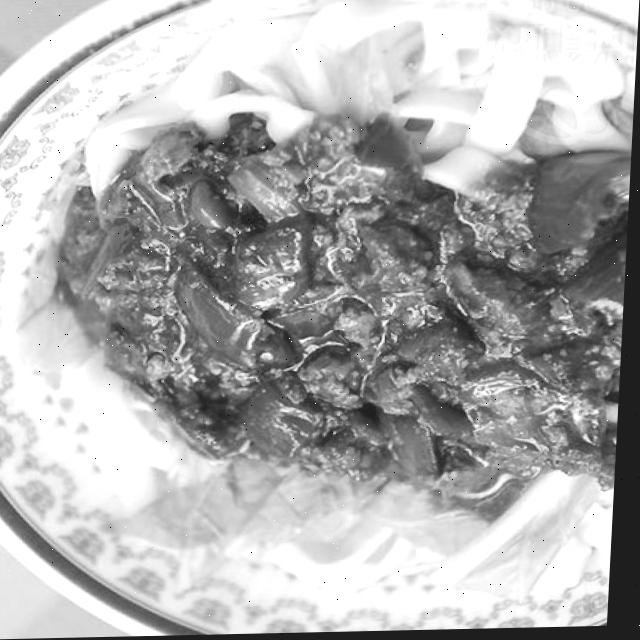面条主食: (9, 30, 638, 606)
